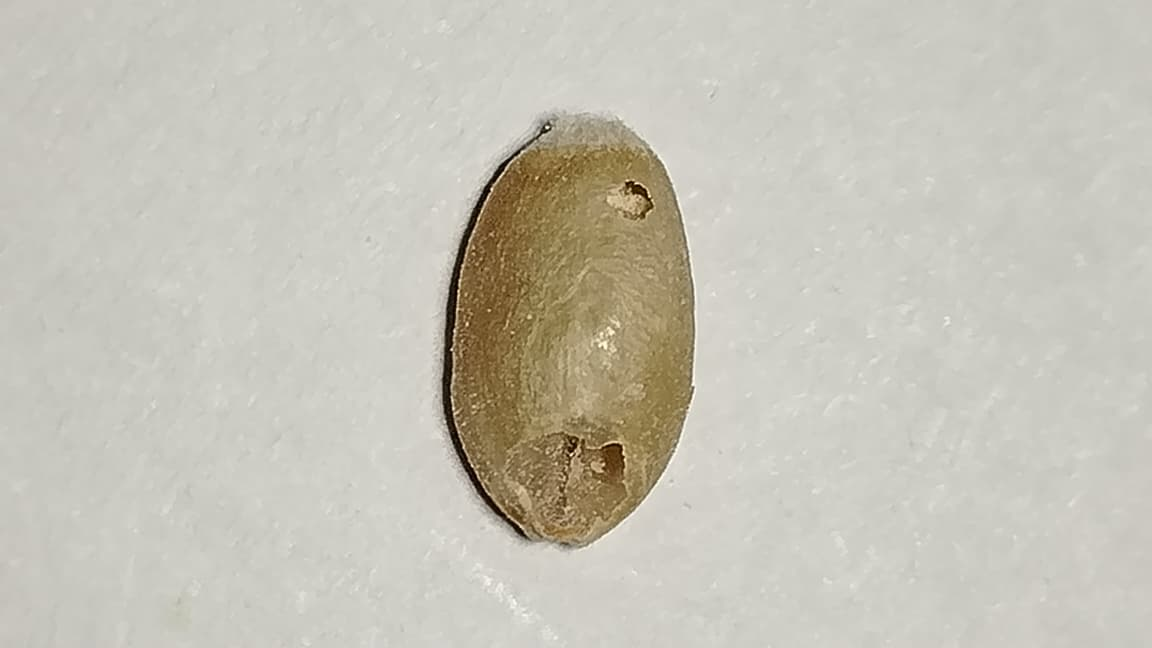damage: (450, 115, 693, 544)
insectdamage: (499, 417, 635, 546), (562, 168, 671, 235)
